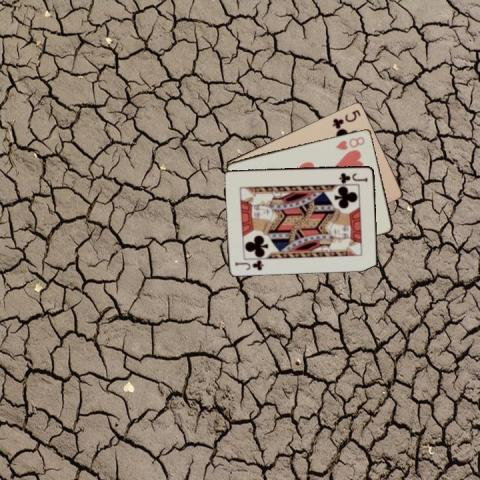5c: (330, 107, 362, 129)
8h: (333, 134, 366, 152)
Jc: (232, 257, 265, 271), (336, 170, 368, 183)
